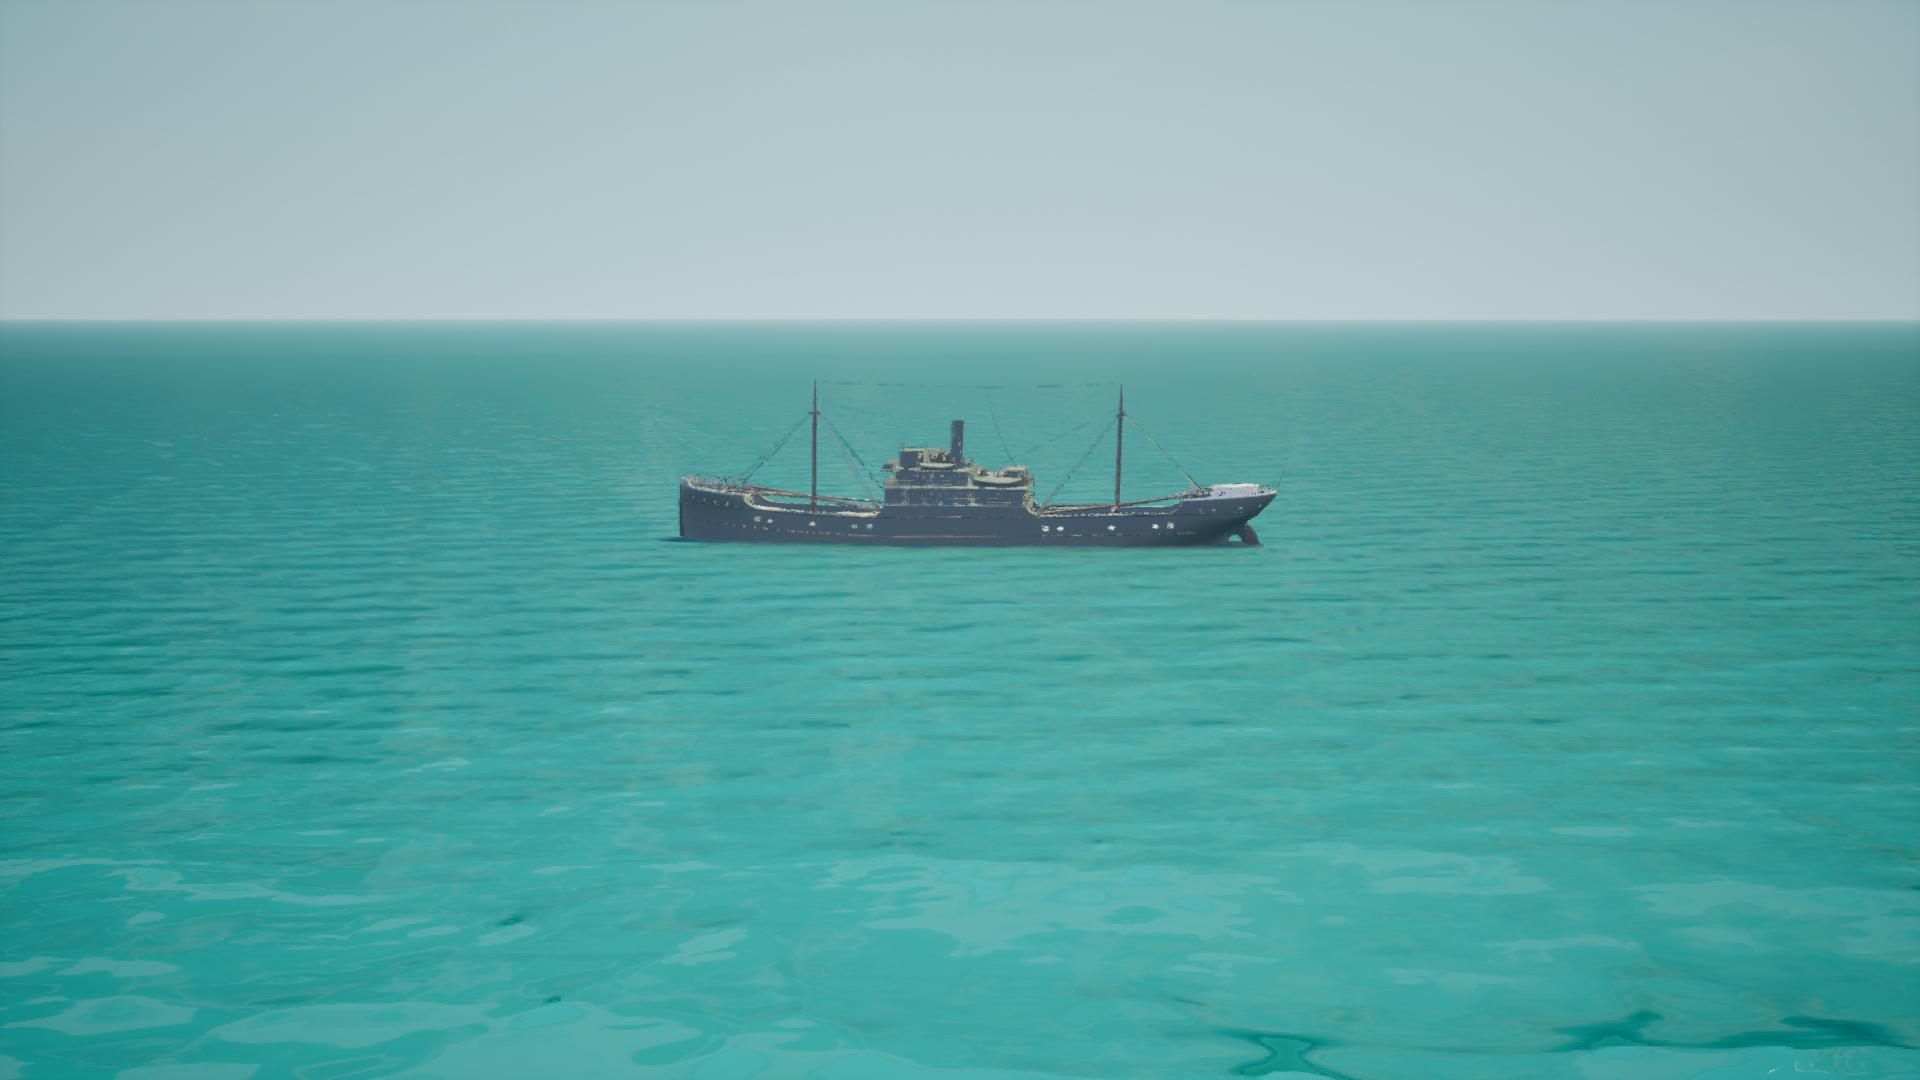Fishing Boat: (675, 381, 1278, 546)
